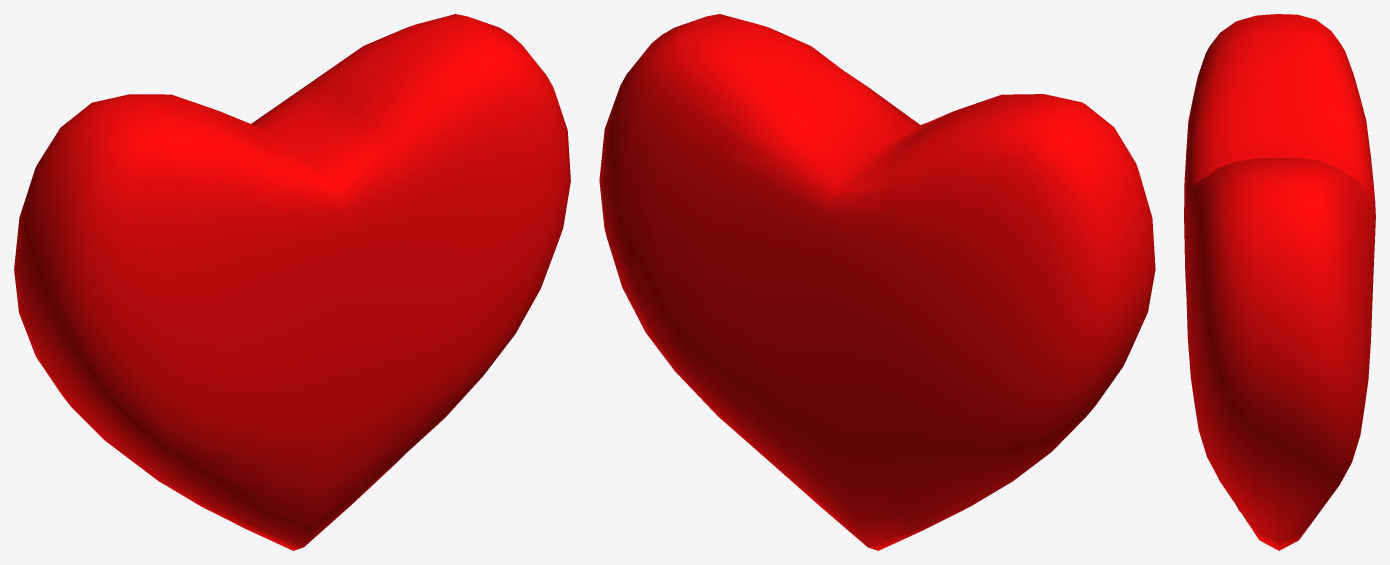
Rendered from asset.glb.
The picture shows the model from 3 angles, left to right: view 1: azimuth 30°, elevation 25°; view 2: azimuth 150°, elevation 25°; view 3: azimuth 270°, elevation 25°; orthographic projection. The views are drawn at different scales.
Visible parts, largest first — view 1: Cube; view 2: Cube; view 3: Cube.
Boxes of the visible parts, <box> form: Cube: <box>14,14,570,550</box>; Cube: <box>599,14,1155,550</box>; Cube: <box>1184,14,1375,550</box>.
Size of the model in its own units: 2.39 by 2.12 by 0.813.
